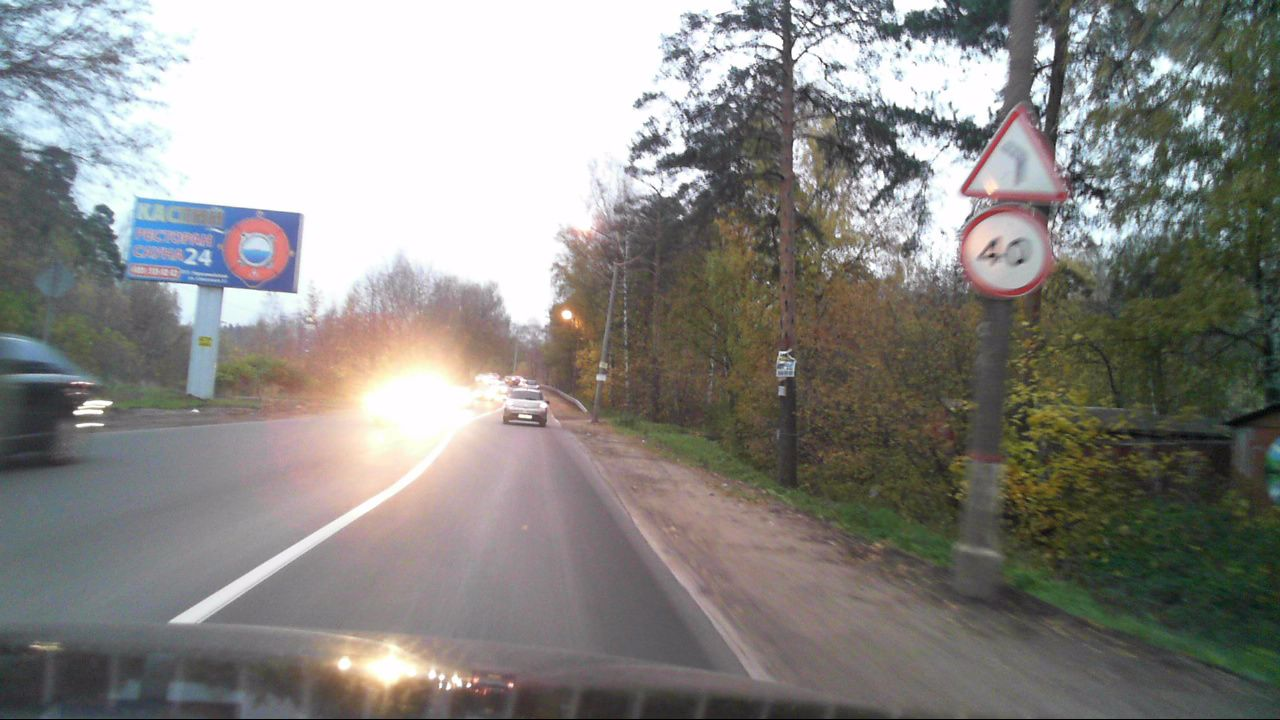speed_warning_40: (959, 209, 1051, 298)
